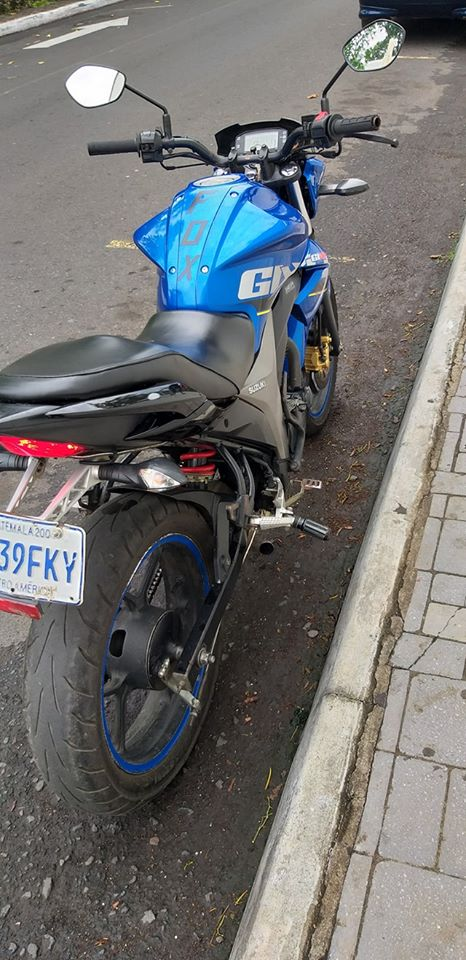moto: (9, 22, 404, 814)
